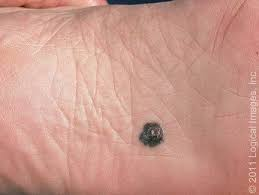melanoma: (124, 101, 184, 159)
